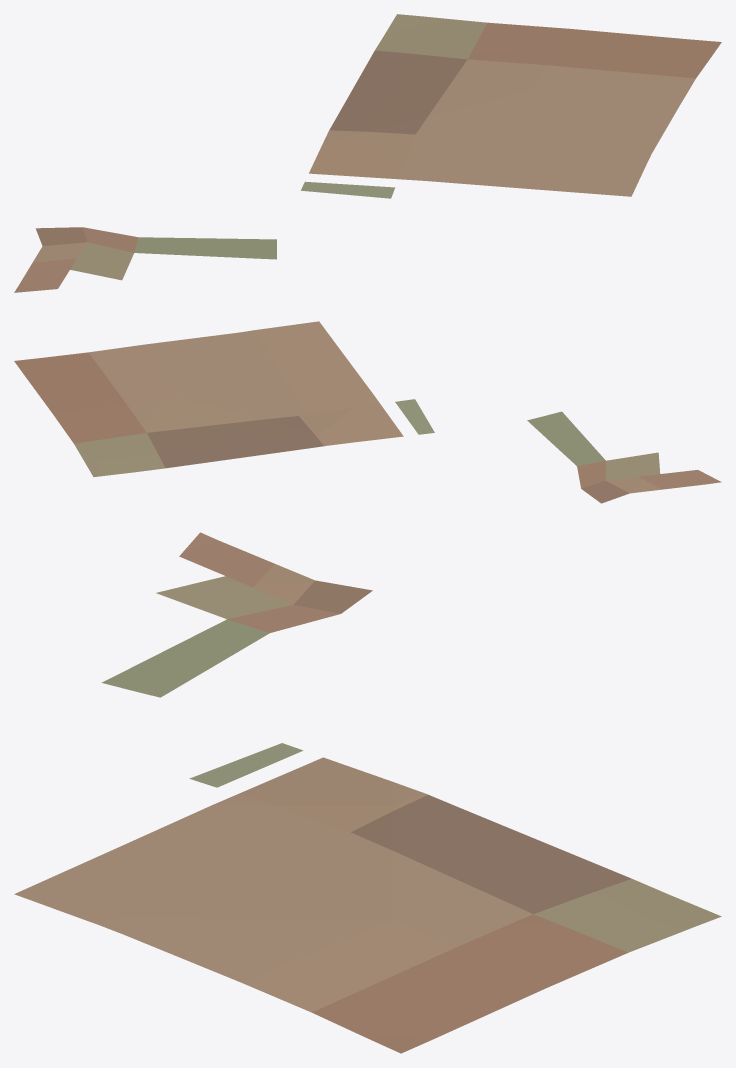
Rendered from farm_-6_2_soil.glb.
The picture shows the model from 3 angles, top to bottom: view 1: azimuth 30°, elevation 25°; view 2: azimuth 150°, elevation 25°; view 3: azimuth 270°, elevation 25°; orthographic projection. The views are drawn at different scales.
Visible parts, largest first — view 1: geometry_0; view 2: geometry_0; view 3: geometry_0.
Boxes of the visible parts, x1=… form: geometry_0: x1=14, y1=14, x2=721, y2=292; geometry_0: x1=14, y1=321, x2=721, y2=503; geometry_0: x1=14, y1=532, x2=721, y2=1053.
Bounding box in the file's own units: 365 × 5.25 × 205.
